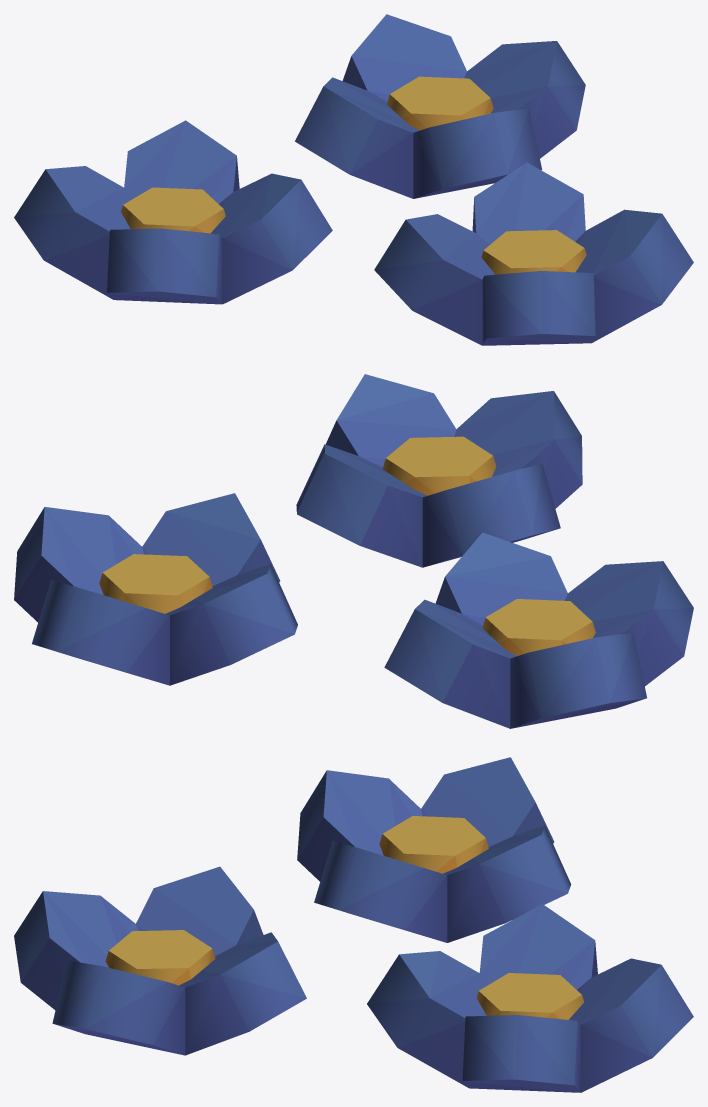
File: coaster_flowers.glb
The picture shows the model from 3 angles, top to bottom: view 1: azimuth 30°, elevation 25°; view 2: azimuth 150°, elevation 25°; view 3: azimuth 270°, elevation 25°; orthographic projection. The views are drawn at different scales.
Parts seen in each view (by area): view 1: coaster_flowers; view 2: coaster_flowers; view 3: coaster_flowers.
Part boxes in pixels (x1,y1,x2,y2): coaster_flowers: (14,14,693,345); coaster_flowers: (14,374,693,728); coaster_flowers: (14,757,693,1092).
Bounding box in the file's own units: 0.7766 × 0.137 × 0.7857.
